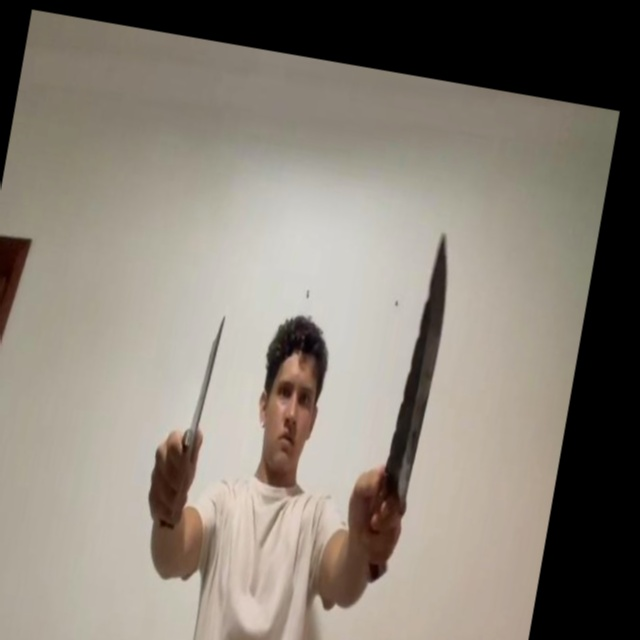Sharp-Object: (381, 228, 459, 487), (186, 313, 226, 445)
